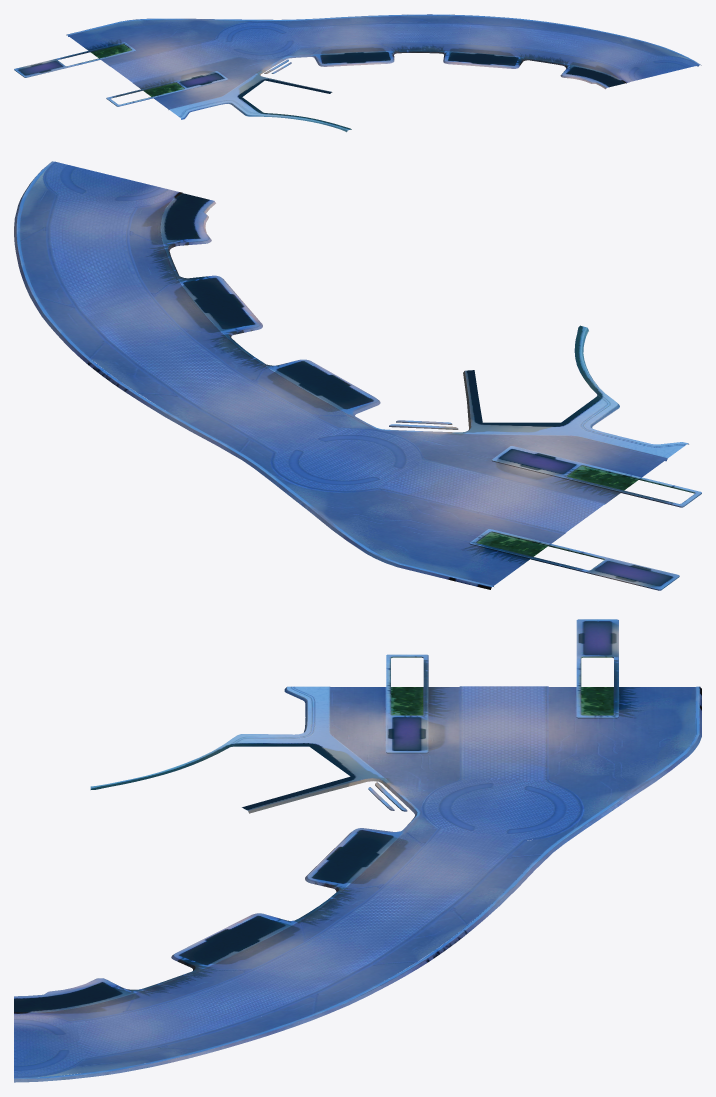
Rendered from pref_sm_beach_techsmall_WSJ_001_bk_main_road02_lv2.fbx.
3 renders of one model, top to bottom at view 1: azimuth 30°, elevation 25°; view 2: azimuth 150°, elevation 25°; view 3: azimuth 270°, elevation 25°, orthographic. The views are drawn at different scales.
Visible parts, largest first — view 1: pref_sm_beach_techsmall_WSJ_001_bk_main_road02_lv2; view 2: pref_sm_beach_techsmall_WSJ_001_bk_main_road02_lv2; view 3: pref_sm_beach_techsmall_WSJ_001_bk_main_road02_lv2.
Boxes of the visible parts, <box> form: pref_sm_beach_techsmall_WSJ_001_bk_main_road02_lv2: <box>14,14,701,132</box>; pref_sm_beach_techsmall_WSJ_001_bk_main_road02_lv2: <box>14,161,701,590</box>; pref_sm_beach_techsmall_WSJ_001_bk_main_road02_lv2: <box>14,619,701,1082</box>.
Bounding box in the file's own units: 55.5 × 0.2236 × 35.07.
